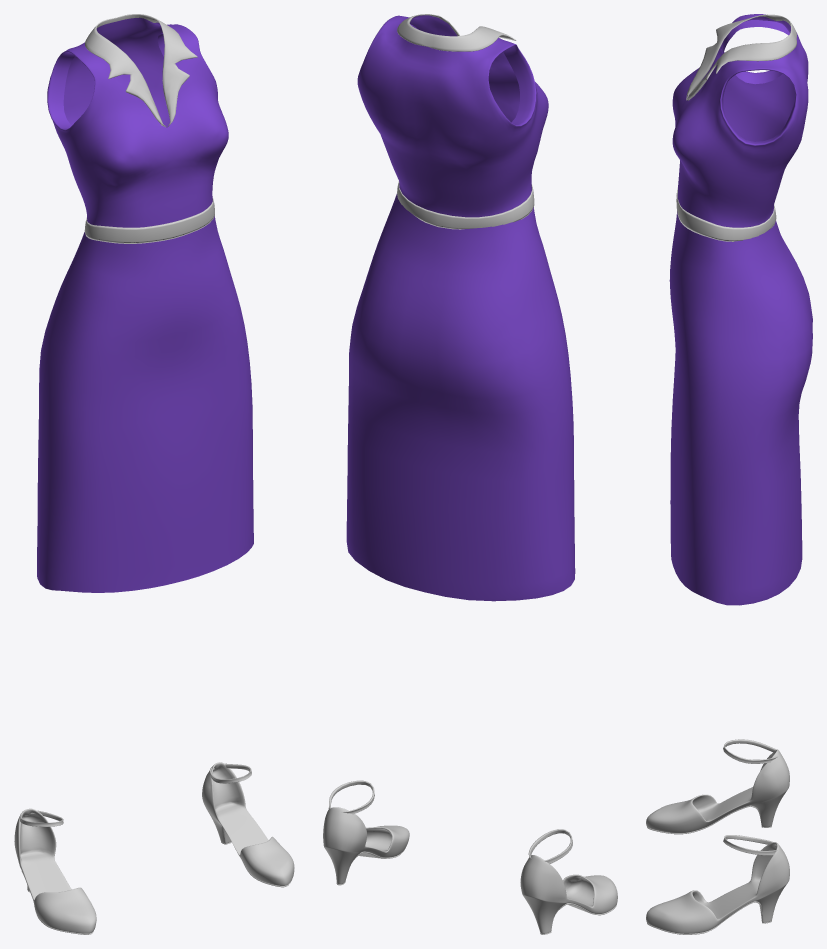
The model's file is nvquntao7.obj.
The picture shows the model from 3 angles, left to right: view 1: azimuth 30°, elevation 25°; view 2: azimuth 150°, elevation 25°; view 3: azimuth 270°, elevation 25°; orthographic projection. The views are drawn at different scales.
Parts seen in each view (by area): view 1: nvquntao2; view 2: nvquntao2; view 3: nvquntao2.
Boxes of the visible parts, left/top/right/bottom form: nvquntao2: left=14, top=14, right=294, bottom=934; nvquntao2: left=323, top=14, right=617, bottom=934; nvquntao2: left=646, top=14, right=812, bottom=934.
Size of the model in its own units: 1.68 by 5.51 by 0.9827.
